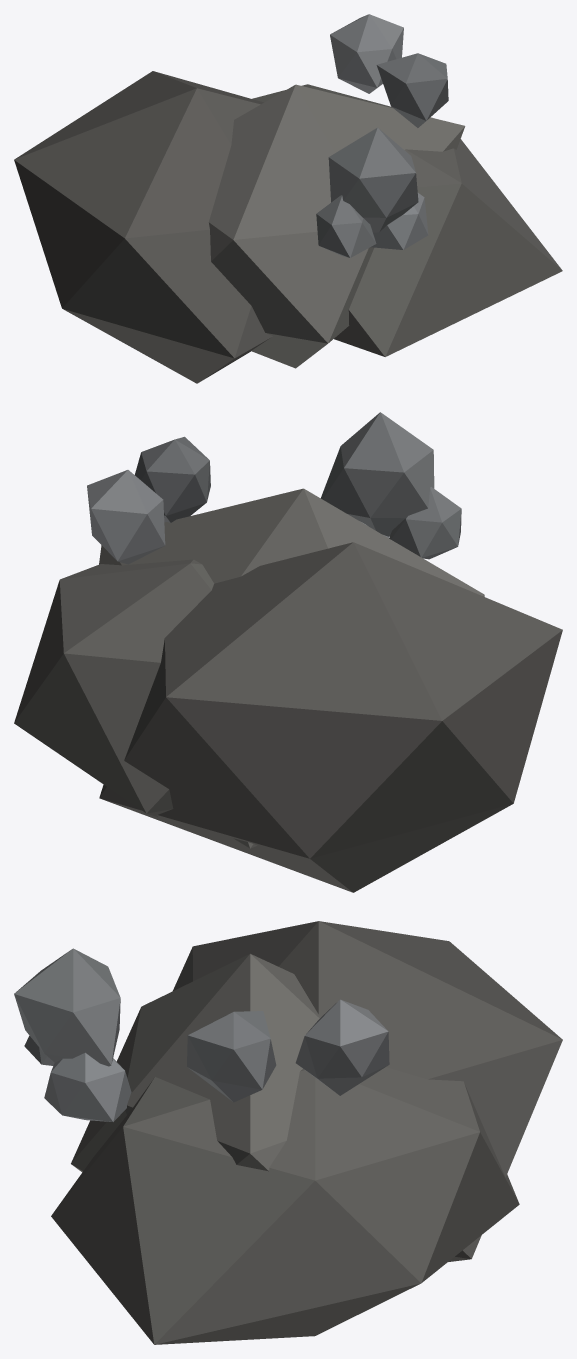
The model's file is iron_rock.glb.
The picture shows the model from 3 angles, top to bottom: view 1: azimuth 30°, elevation 25°; view 2: azimuth 150°, elevation 25°; view 3: azimuth 270°, elevation 25°; orthographic projection. The views are drawn at different scales.
Visible parts, largest first — view 1: iron_rock; view 2: iron_rock; view 3: iron_rock.
Boxes of the visible parts, <box> form: iron_rock: <box>14,14,562,383</box>; iron_rock: <box>14,412,562,892</box>; iron_rock: <box>14,921,562,1344</box>.
Size of the model in its own units: 1.59 by 1.12 by 1.44.
1 material, 1 textured.
